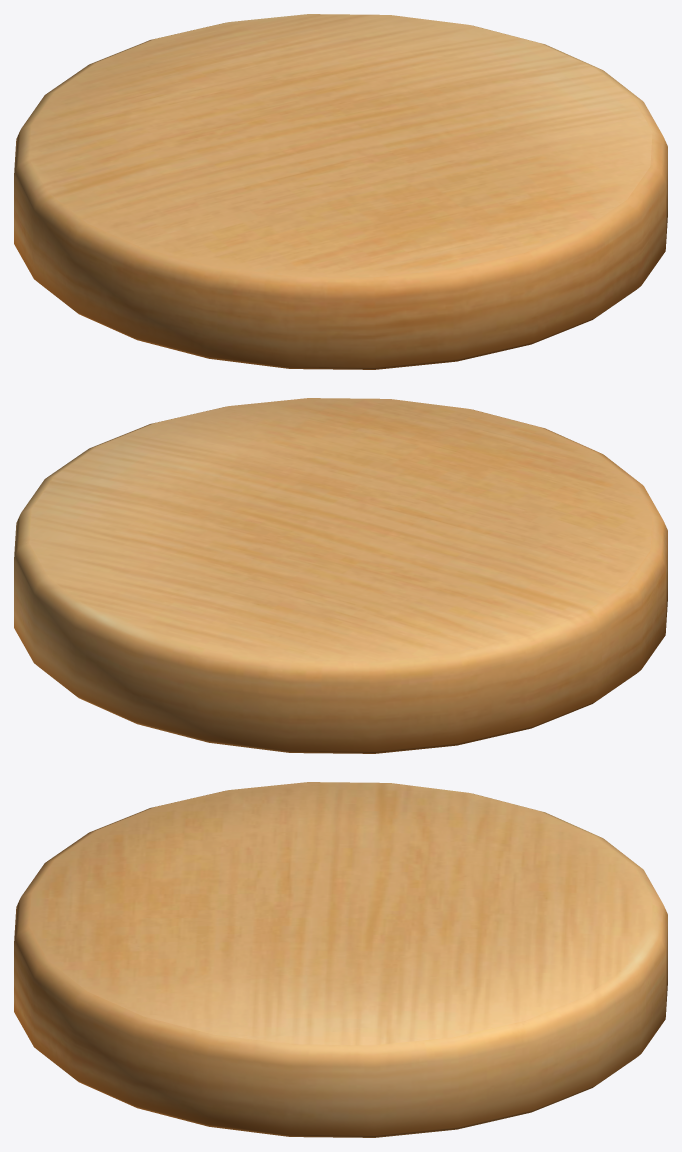
3 renders of one model, top to bottom at view 1: azimuth 30°, elevation 25°; view 2: azimuth 150°, elevation 25°; view 3: azimuth 270°, elevation 25°, orthographic.
Parts seen in each view (by area): view 1: taizi; view 2: taizi; view 3: taizi.
Part boxes in pixels (left/top/right/bottom): taizi: left=14, top=14, right=667, bottom=369; taizi: left=14, top=398, right=667, bottom=753; taizi: left=14, top=782, right=667, bottom=1137.
Size of the model in its own units: 99.46 by 99.46 by 16.19.
1 material, 1 textured.
